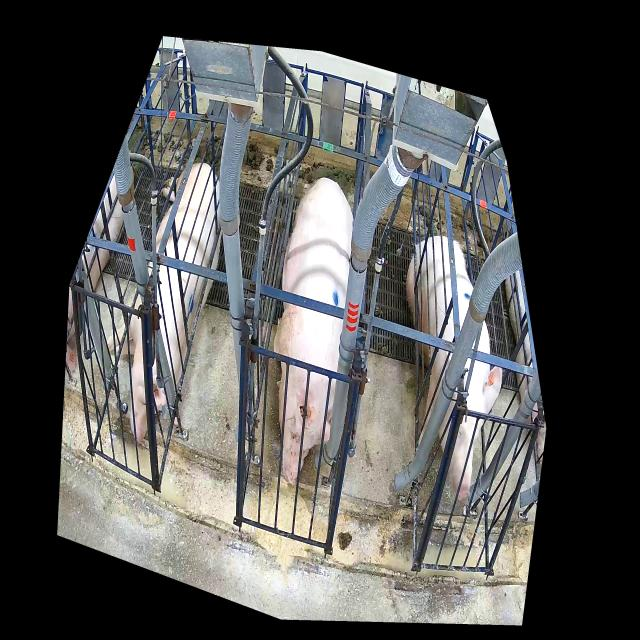pig: (106, 162, 222, 444), (406, 235, 502, 501), (273, 177, 353, 484)
